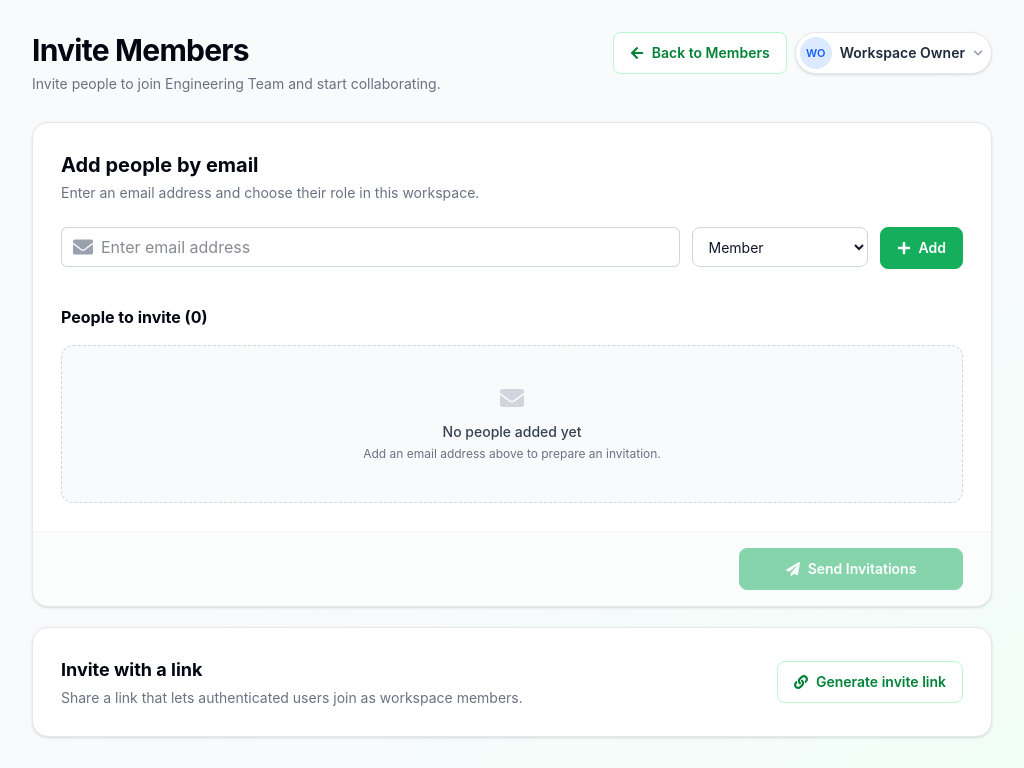
Invite members page › shows an inline error and keeps generation available after failure
This screenshot has width=1024, height=768.
Expected: the heading "Invite Members" is shown, [32,32,249,68]
Click the button "Generate invite link" at (870, 682), box [777,661,963,703]
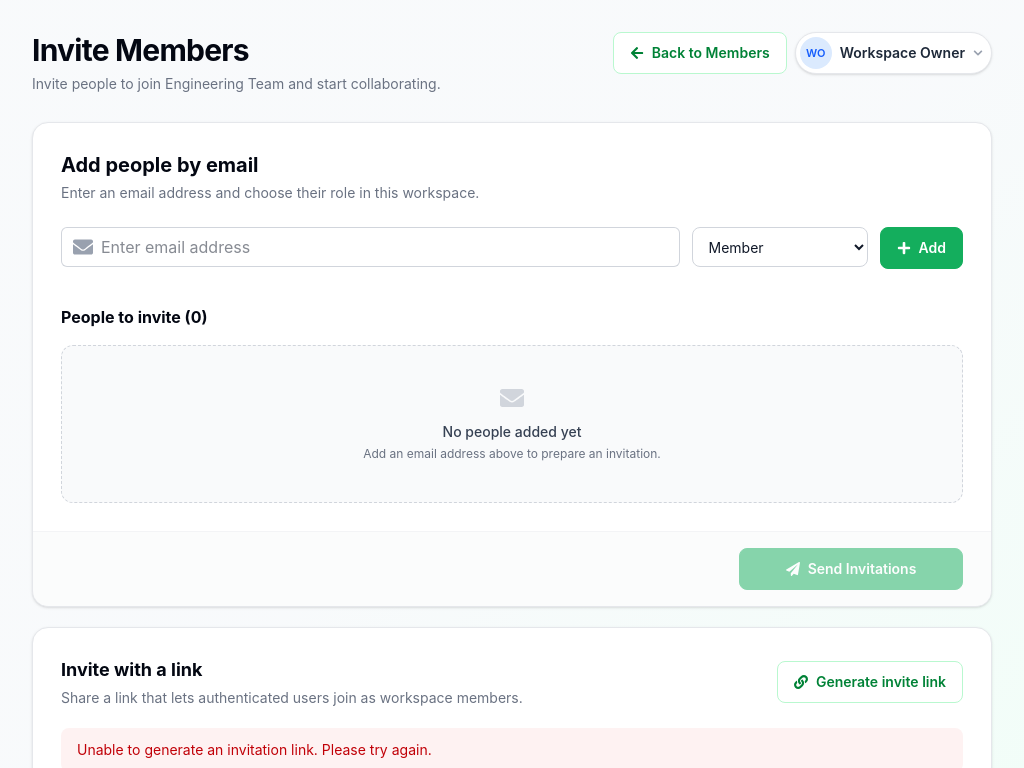
Expected: the message reads "Unable to generate an invitation link. Please try again.", [77,741,432,758]
